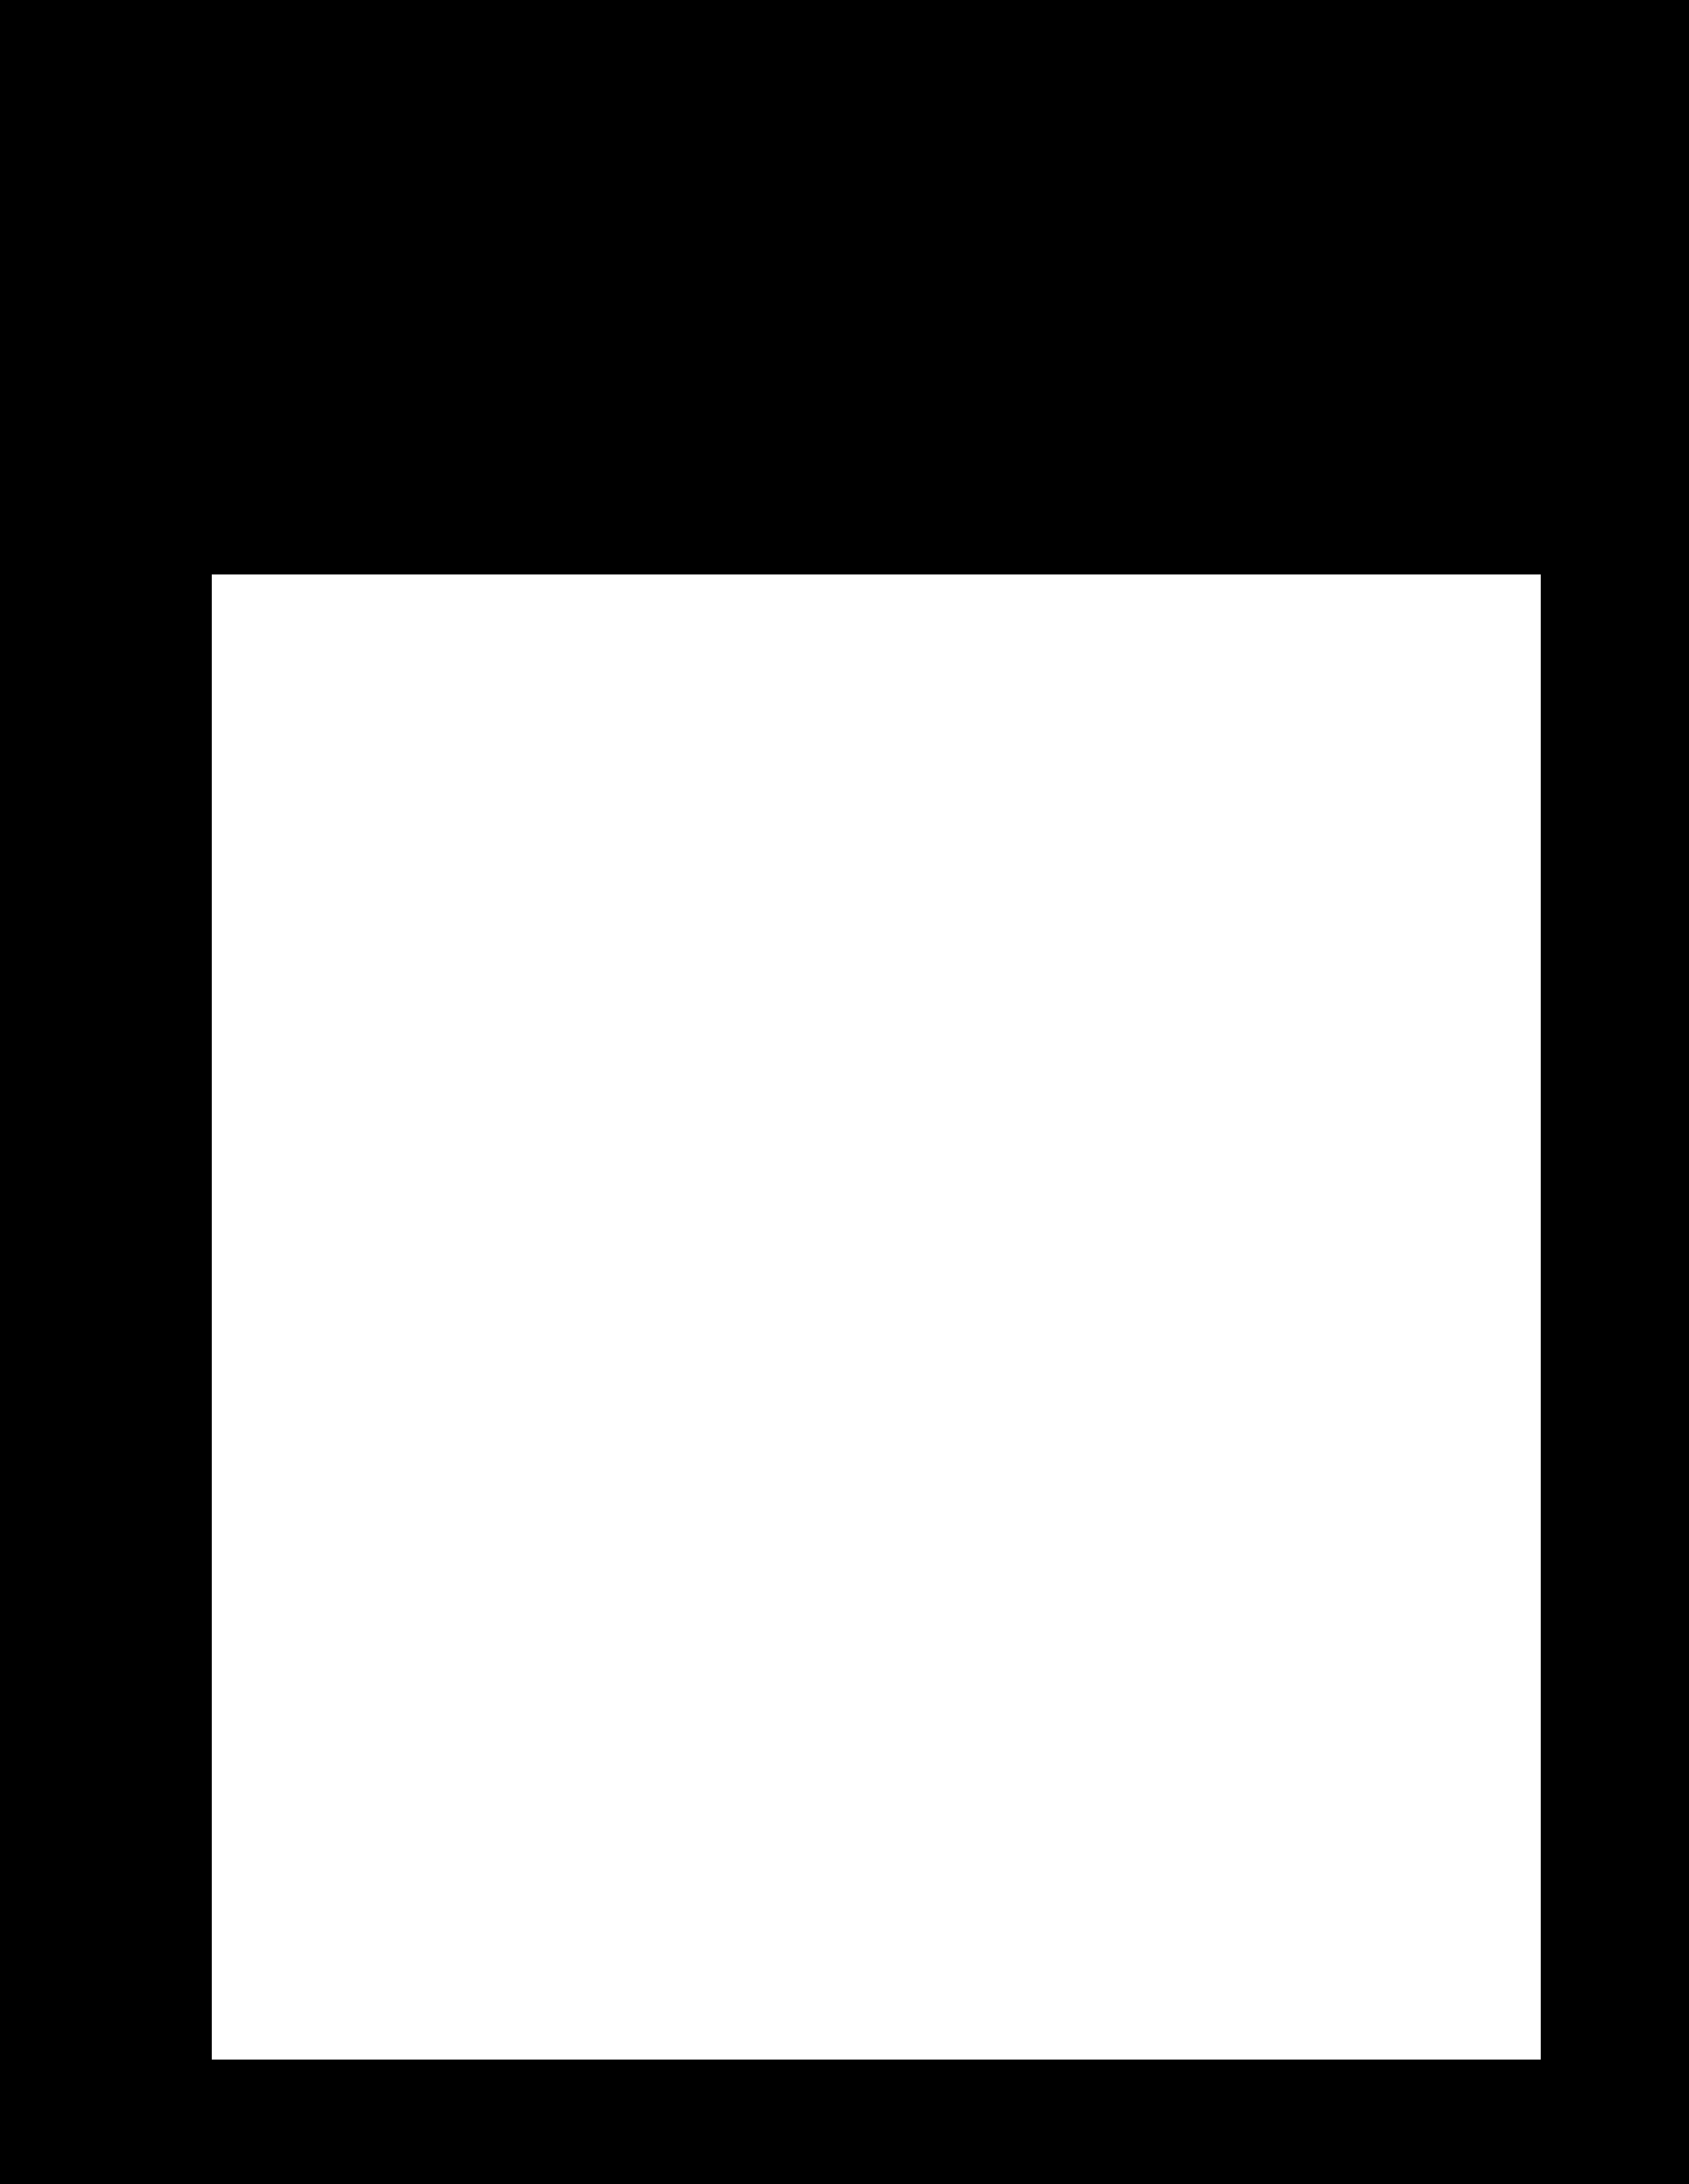table: (211, 574, 1540, 2058)
